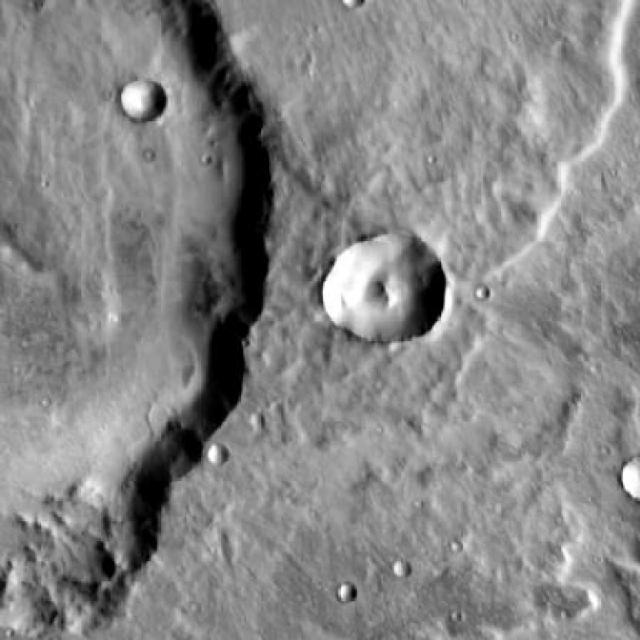crater: (328, 228, 444, 344), (122, 77, 167, 120), (617, 457, 640, 500), (206, 445, 225, 463), (247, 413, 265, 432), (339, 584, 356, 602), (394, 563, 411, 580)
